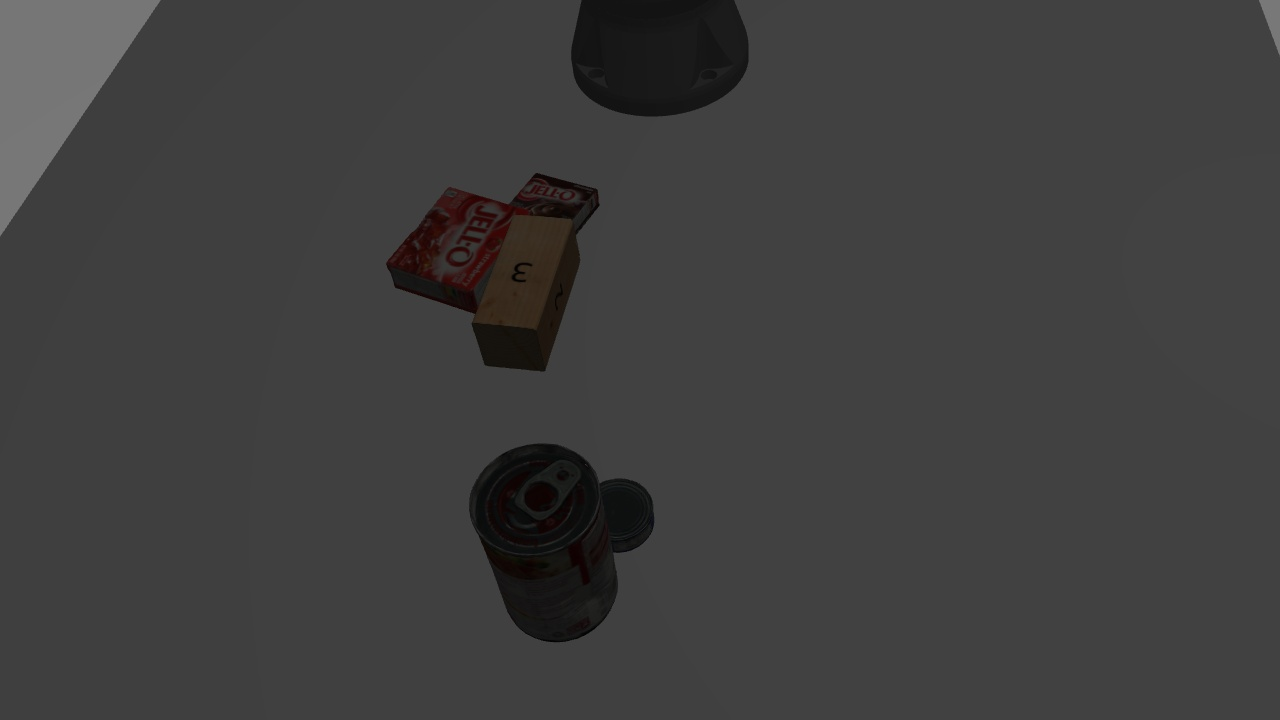gelatin_box: (385, 177, 509, 305)
pudding_box: (509, 176, 604, 237)
tomato_soup_can: (454, 439, 618, 645)
tuna_fish_can: (589, 478, 665, 554)
wood_block: (469, 202, 585, 386)
